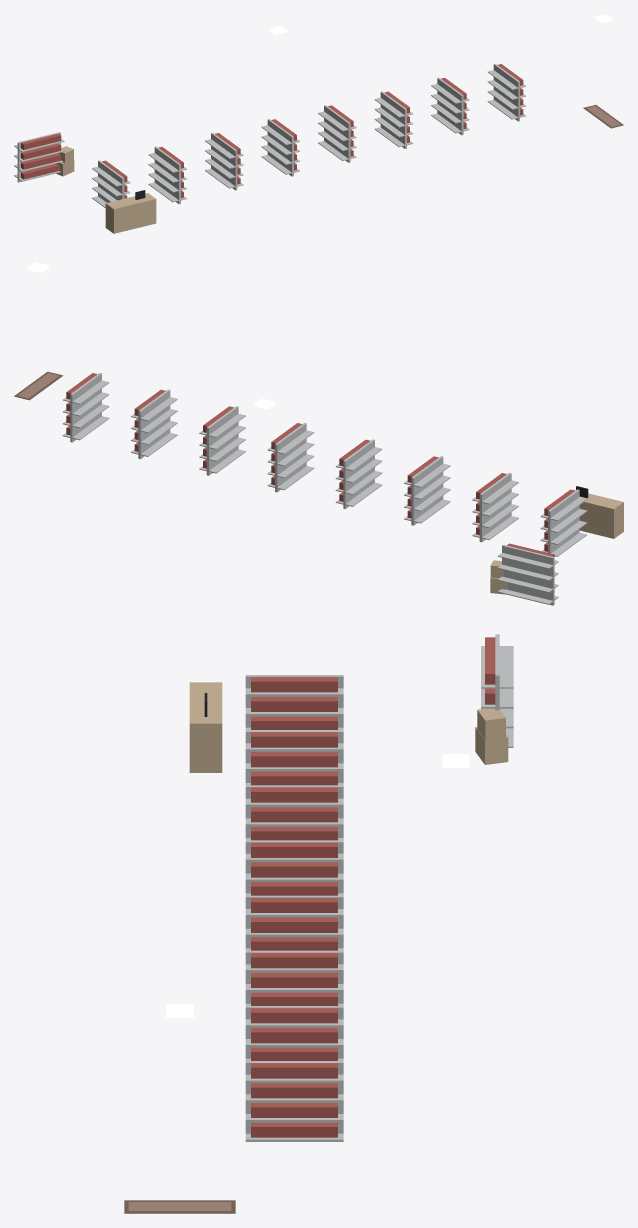
File: fine-s0.glb
3 renders of one model, top to bottom at view 1: azimuth 30°, elevation 25°; view 2: azimuth 150°, elevation 25°; view 3: azimuth 270°, elevation 25°, orthographic. The views are drawn at different scales.
Parts seen in each view (by area): view 1: shelving.000, shop-counter.000, shelf.007, shelf.005, shelf.002, shelf.004, shelf.006, shelf.001, shelf.003, shelf.000, cardboard-box.000, soft-s0; view 2: shelving.000, shelf.006, shelf.002, shelf.003, shelf.001, shelf.004, shelf.005, shelf.007, shelf.000, shop-counter.000, soft-s0; view 3: shelf.007, shelf.003, shelf.001, shelf.002, shelf.004, shelf.005, shelf.000, shelf.006, shop-counter.000, shelving.000, cardboard-box.000, soft-s0.
Part boxes in pixels (left/top/right/bottom): shelving.000: left=14, top=132, right=64, bottom=182; shop-counter.000: left=105, top=190, right=156, bottom=233; shelf.007: left=487, top=64, right=526, bottom=121; shelf.005: left=374, top=91, right=413, bottom=148; shelf.002: left=205, top=133, right=243, bottom=190; shelf.004: left=318, top=105, right=356, bottom=162; shelf.006: left=431, top=77, right=469, bottom=135; shelf.001: left=148, top=146, right=186, bottom=204; shelf.003: left=261, top=119, right=299, bottom=176; shelf.000: left=92, top=160, right=130, bottom=207; cardboard-box.000: left=56, top=146, right=74, bottom=176; soft-s0: left=583, top=105, right=623, bottom=128; shelving.000: left=497, top=543, right=558, bottom=605; shelf.006: left=131, top=389, right=177, bottom=459; shelf.002: left=404, top=456, right=450, bottom=525; shelf.003: left=335, top=439, right=382, bottom=508; shelf.001: left=472, top=472, right=518, bottom=542; shelf.004: left=267, top=422, right=314, bottom=492; shelf.005: left=199, top=406, right=245, bottom=475; shelf.007: left=62, top=373, right=109, bottom=442; shelf.000: left=540, top=489, right=587, bottom=556; shop-counter.000: left=572, top=486, right=623, bottom=538; soft-s0: left=14, top=371, right=62, bottom=400; shelf.007: left=245, top=1061, right=343, bottom=1141; shelf.003: left=245, top=840, right=343, bottom=895; shelf.001: left=245, top=730, right=343, bottom=785; shelf.002: left=245, top=785, right=343, bottom=840; shelf.004: left=245, top=895, right=343, bottom=950; shelf.005: left=245, top=950, right=343, bottom=1005; shelf.000: left=245, top=675, right=343, bottom=729; shelf.006: left=245, top=1006, right=343, bottom=1060; shop-counter.000: left=189, top=682, right=222, bottom=772; shelving.000: left=481, top=634, right=513, bottom=747; cardboard-box.000: left=475, top=708, right=508, bottom=764; soft-s0: left=124, top=1200, right=235, bottom=1213.
Bounding box in the file's own units: 21.76 × 4.01 × 7.16.
